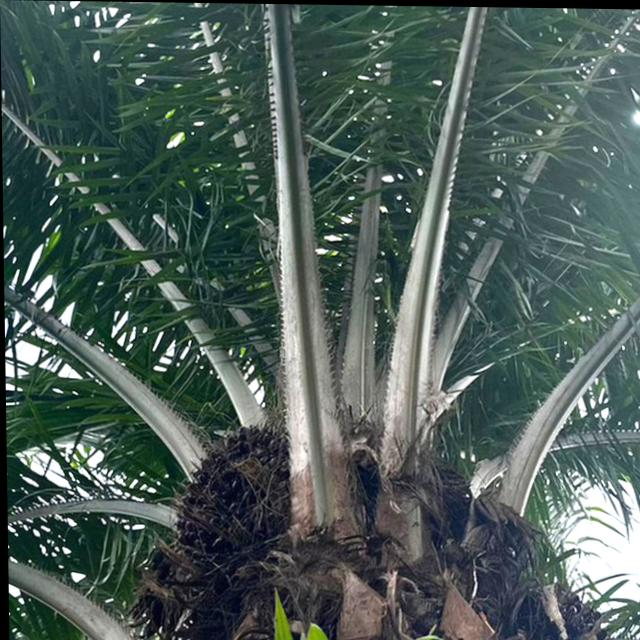almost: (165, 416, 296, 567)
